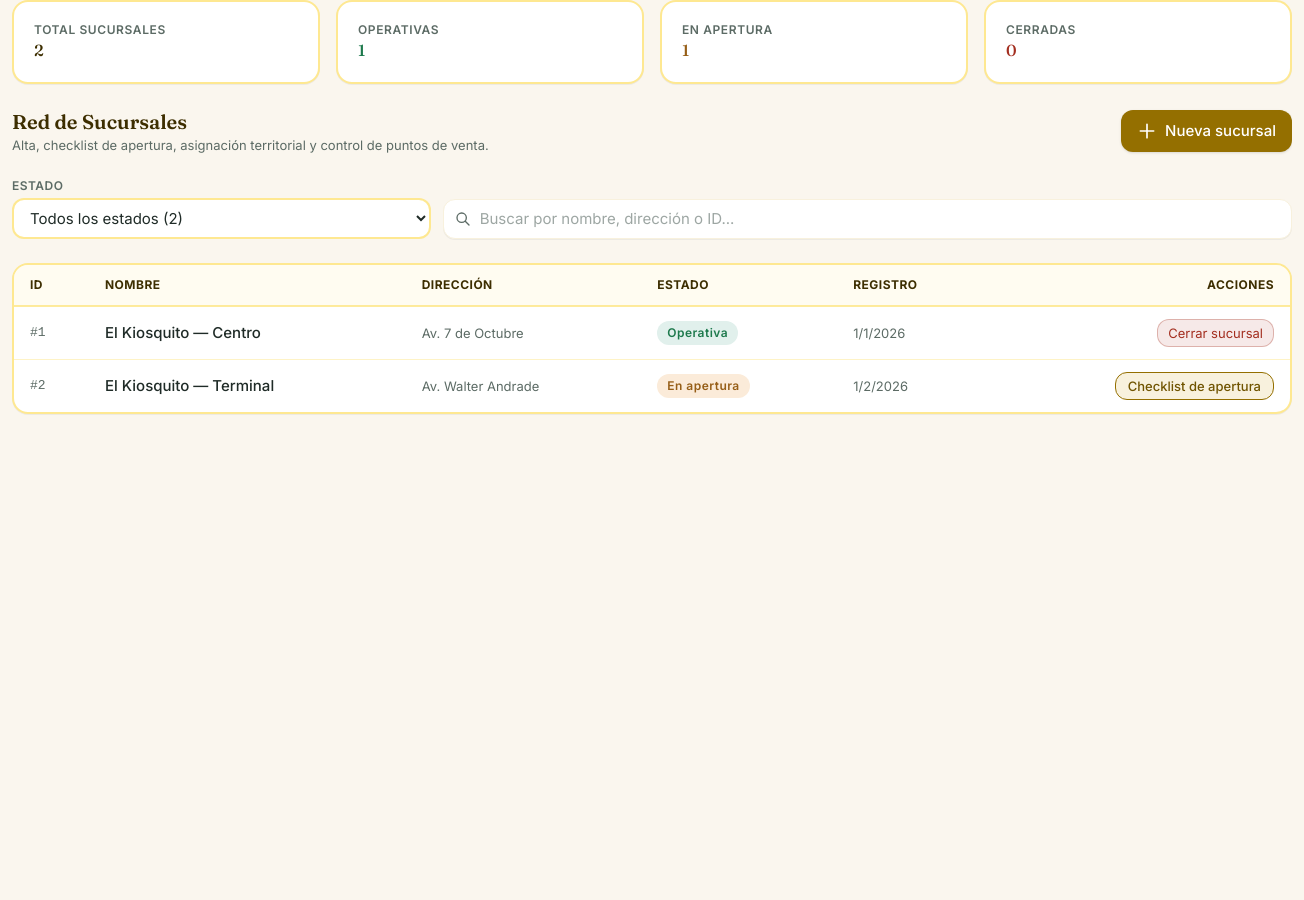
Test: Sucursales › abre el panel de checklist de apertura para una sucursal en_apertura
Check: the text "El Kiosquito — Terminal" is shown, box [89, 360, 406, 412]
Click the button "Checklist de apertura".
click(1194, 386)  # box [1115, 372, 1274, 400]
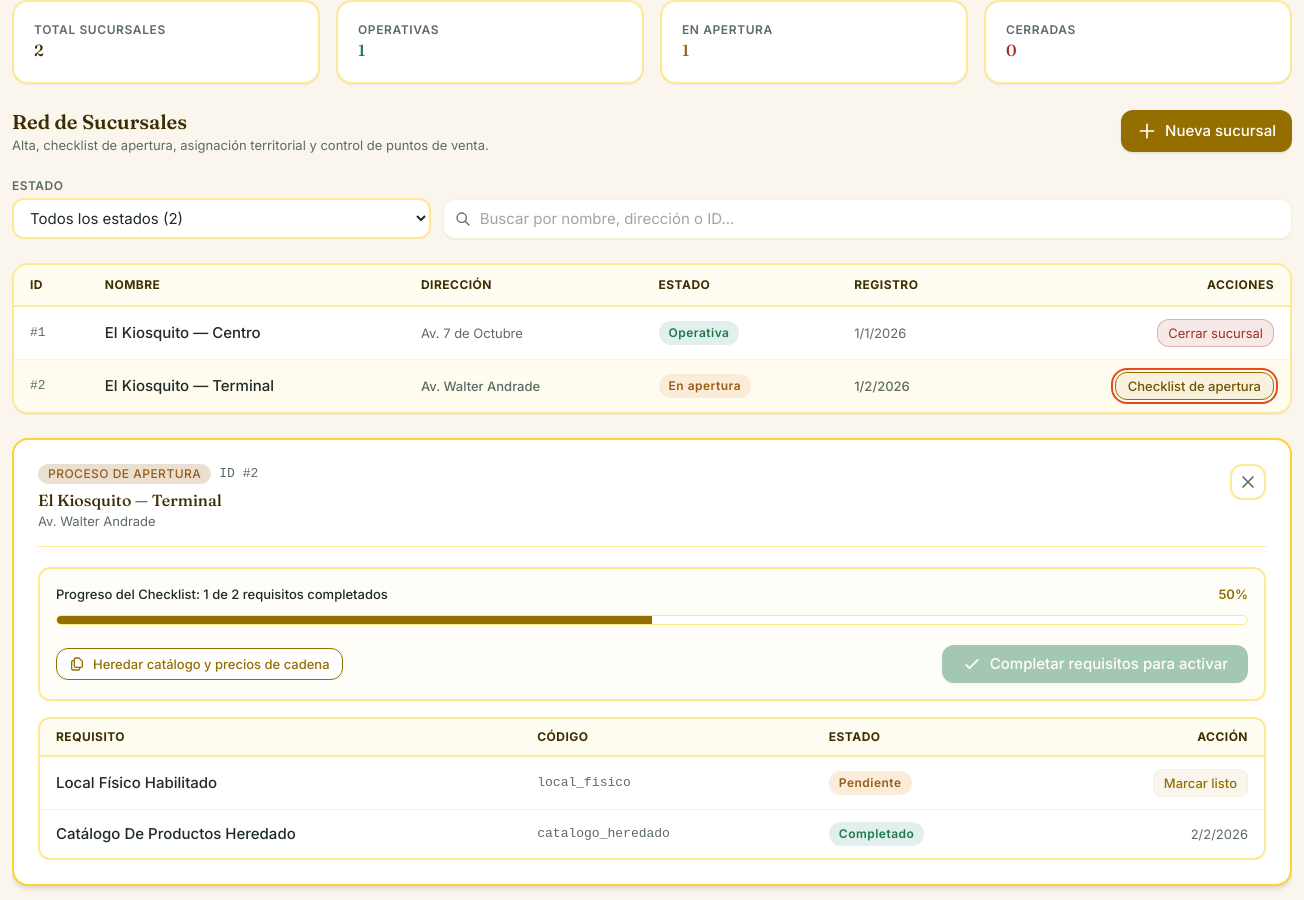
Check: the text "Proceso de Apertura" is shown, box [38, 464, 211, 484]
Check: the text "Local físico habilitado" is shown, box [40, 756, 521, 810]
